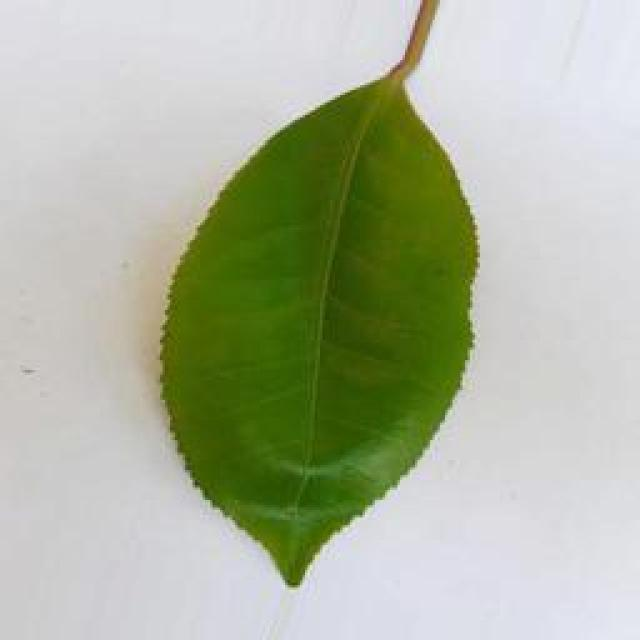Healthy: (142, 58, 491, 601)
